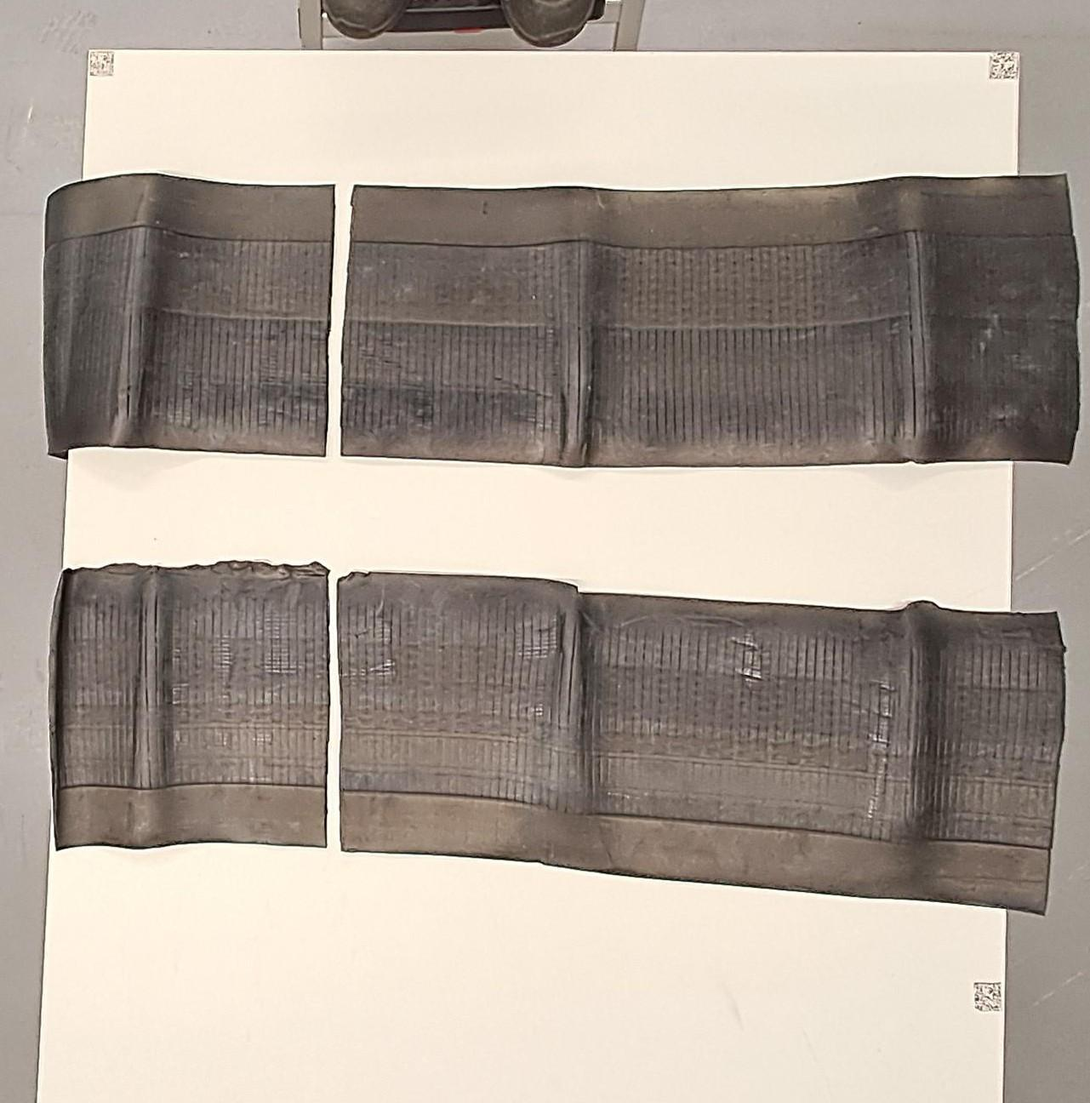cut_edge: (326, 185, 353, 455), (327, 570, 342, 850)
qr_code: (987, 52, 1018, 82), (973, 981, 1002, 1013), (89, 50, 114, 76)
